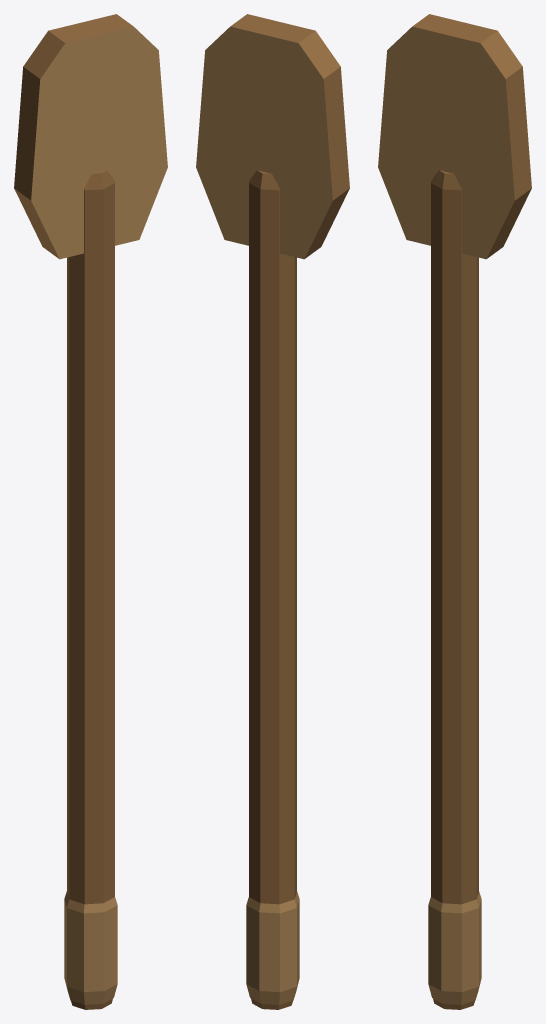
Rendered from StirPaddle.fbx.
The picture shows the model from 3 angles, left to right: view 1: azimuth 30°, elevation 25°; view 2: azimuth 150°, elevation 25°; view 3: azimuth 330°, elevation 25°; orthographic projection.
Visible parts, largest first — view 1: StirPaddle; view 2: StirPaddle; view 3: StirPaddle.
Part boxes in pixels (x1,y1,x2,y2): StirPaddle: [14, 14, 167, 1009]; StirPaddle: [196, 14, 349, 1009]; StirPaddle: [378, 14, 531, 1009].
Bounding box in the file's own units: 12 × 81.5 × 4.2.
